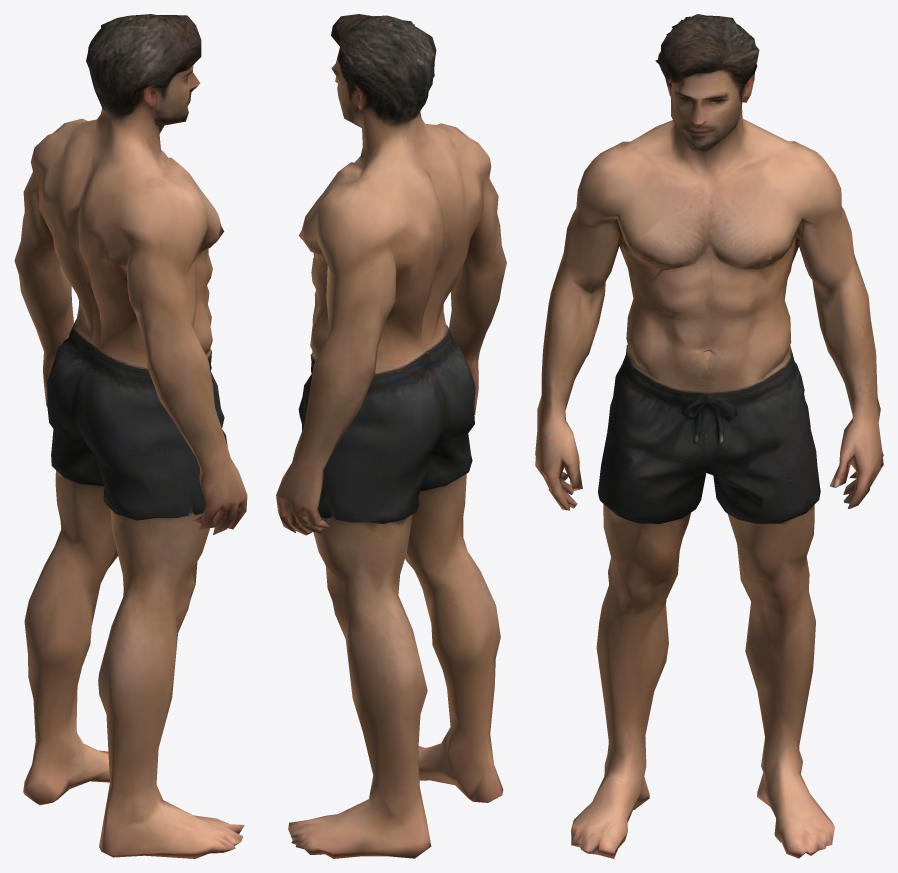
File: zs_mann_steht.glb
3 views of the same model, side by side, from view 1: azimuth 30°, elevation 25°; view 2: azimuth 150°, elevation 25°; view 3: azimuth 270°, elevation 25° (orthographic). The views are drawn at different scales.
Visible parts, largest first — view 1: tripo_node_71905c90-453e-48a8-b873-cc7846e49196; view 2: tripo_node_71905c90-453e-48a8-b873-cc7846e49196; view 3: tripo_node_71905c90-453e-48a8-b873-cc7846e49196.
Part boxes in pixels (x1,y1,x2,y2): tripo_node_71905c90-453e-48a8-b873-cc7846e49196: [14, 14, 247, 858]; tripo_node_71905c90-453e-48a8-b873-cc7846e49196: [276, 14, 506, 858]; tripo_node_71905c90-453e-48a8-b873-cc7846e49196: [535, 14, 883, 858].
Size of the model in its own units: 0.1878 by 1 by 0.3869.
1 material, 1 textured.
